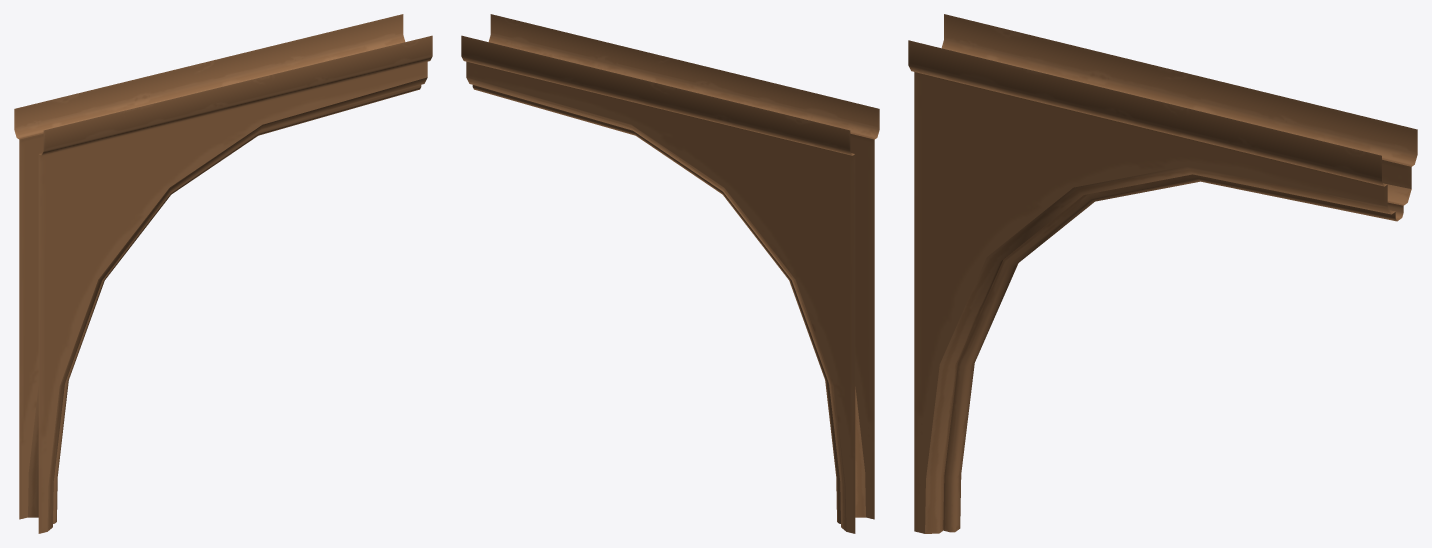
Rendered from ARC0510092.fbx.
The picture shows the model from 3 angles, left to right: view 1: azimuth 30°, elevation 25°; view 2: azimuth 150°, elevation 25°; view 3: azimuth 330°, elevation 25°; orthographic projection. The views are drawn at different scales.
Visible parts, largest first — view 1: smARC0510092; view 2: smARC0510092; view 3: smARC0510092.
Boxes of the visible parts, box(x1,y1,x2,y2) form: smARC0510092: box(14, 14, 432, 533); smARC0510092: box(461, 14, 879, 533); smARC0510092: box(908, 14, 1417, 533).
Size of the model in its own units: 300 by 300 by 39.29.
1 material, 1 textured.
